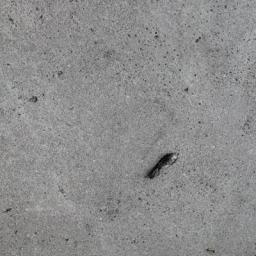FOD: (143, 150, 184, 183)
